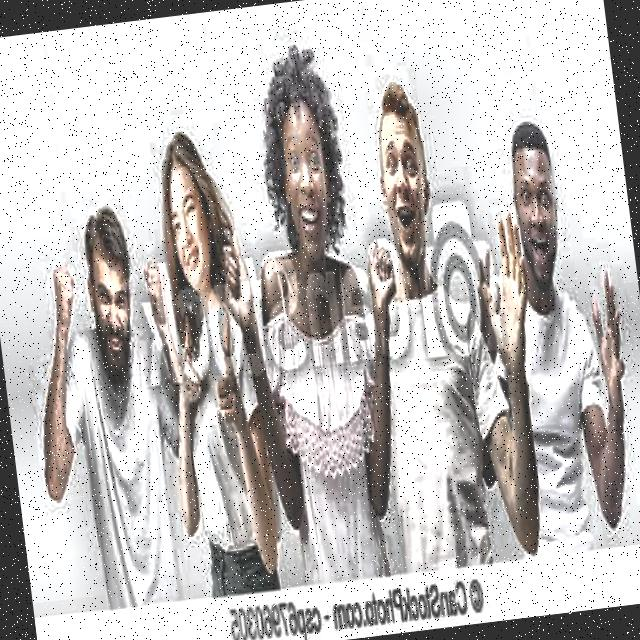surprised: (362, 65, 455, 342), (147, 110, 246, 360), (258, 55, 361, 294), (70, 201, 148, 395), (498, 112, 579, 284)
